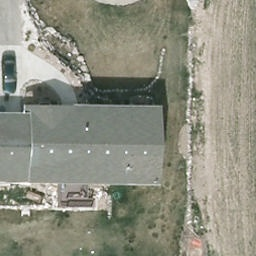car: (3, 52, 18, 95)
